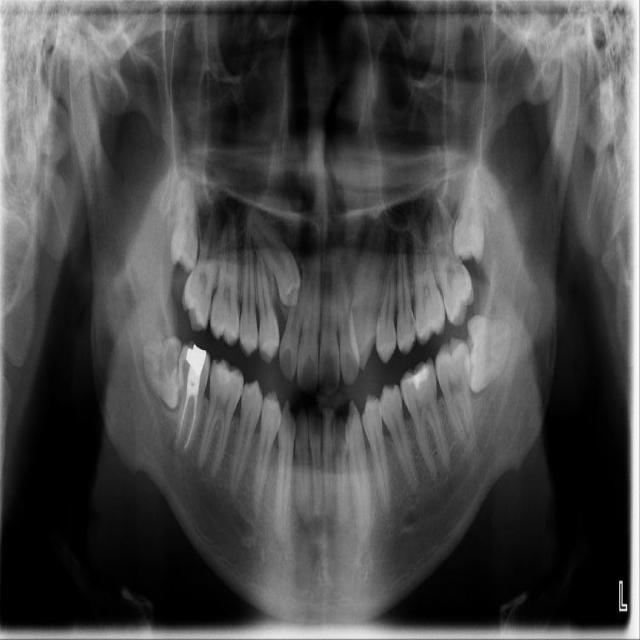3M ESPE Implant: (170, 162, 200, 273)
52: (392, 355, 451, 417), (174, 339, 213, 397), (207, 357, 246, 414)
73: (174, 380, 204, 454), (609, 586, 613, 598)
BioHorizons Implant: (415, 195, 483, 329)
BioLife Implant: (451, 160, 491, 264)
Biomet 3i Implant: (459, 311, 515, 399)
Blue Sky Bio Implant: (431, 333, 481, 453)
Caries: (176, 208, 227, 335)
Implant: (174, 338, 212, 454)
Keystone Dental Implant: (141, 335, 183, 410)
